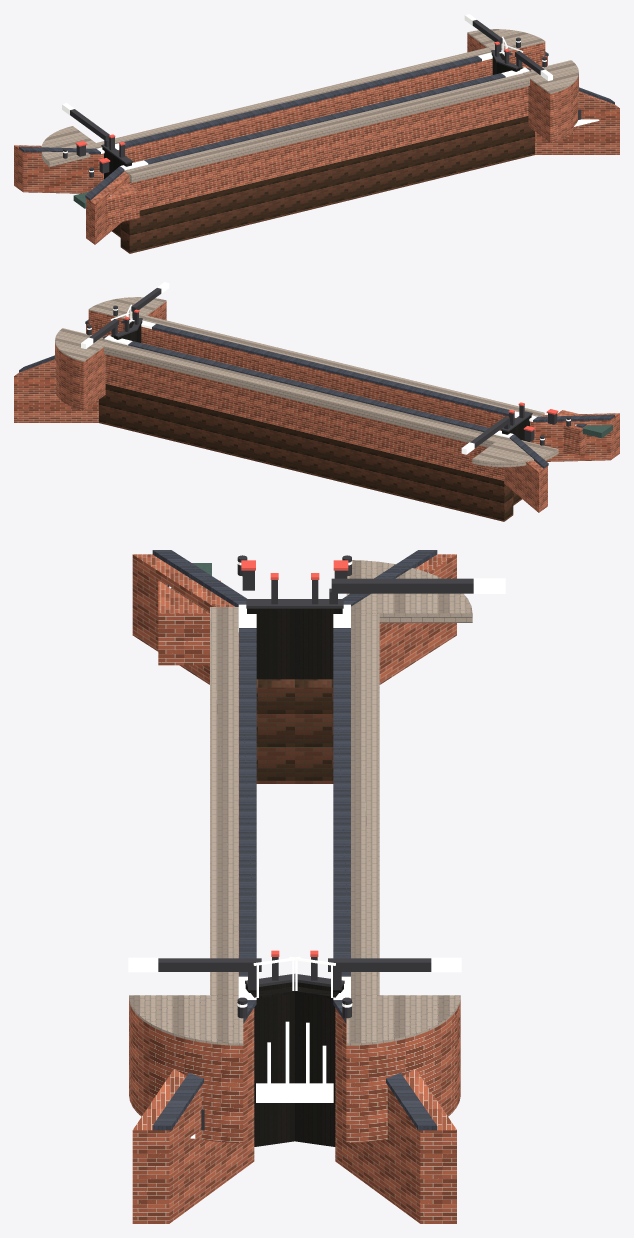
The model's file is lock-46.glb.
3 views of the same model, one above another, from view 1: azimuth 30°, elevation 25°; view 2: azimuth 150°, elevation 25°; view 3: azimuth 270°, elevation 25° (orthographic). The views are drawn at different scales.
Visible parts, largest first — view 1: Chamber, ChamberWet, Edge, Coping.001, TopGateCap, Coping, TopGate; view 2: Chamber, ChamberWet, Edge, Coping.001, TopGateCap, Coping, TopGate; view 3: Chamber, Edge, Coping.001, TopGate, TopGateCap, ChamberWet, Coping, Leak.
Boxes of the visible parts, x1=… form: Chamber: x1=14, y1=33, x2=619, y2=244; ChamberWet: x1=112, y1=116, x2=534, y2=253; Edge: x1=41, y1=29, x2=578, y2=182; Coping.001: x1=19, y1=51, x2=614, y2=200; TopGateCap: x1=63, y1=20, x2=581, y2=177; Coping: x1=62, y1=14, x2=552, y2=172; TopGate: x1=102, y1=53, x2=522, y2=178; Chamber: x1=14, y1=301, x2=619, y2=512; ChamberWet: x1=99, y1=384, x2=521, y2=521; Edge: x1=55, y1=297, x2=558, y2=467; Coping.001: x1=19, y1=319, x2=614, y2=468; TopGateCap: x1=87, y1=288, x2=570, y2=447; Coping: x1=81, y1=282, x2=570, y2=454; TopGate: x1=111, y1=321, x2=531, y2=441; Chamber: x1=129, y1=554, x2=460, y2=1223; Edge: x1=129, y1=560, x2=472, y2=1045; Coping.001: x1=152, y1=550, x2=437, y2=1130; TopGate: x1=245, y1=608, x2=343, y2=1146; TopGateCap: x1=158, y1=555, x2=473, y2=1130; ChamberWet: x1=256, y1=679, x2=333, y2=783; Coping: x1=128, y1=561, x2=505, y2=1007; Leak: x1=169, y1=586, x2=333, y2=1138.
Bounding box in the file's own units: 32.97 × 5.91 × 10.24.
Materials: 11 (8 with a texture image).
